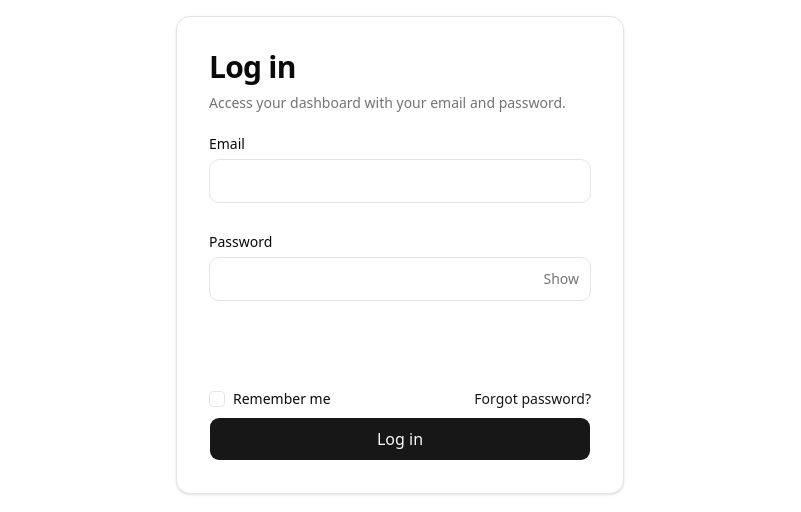
Scenario: routing and session flow › redirects to dashboard after successful login
In the field labelled "Email": (400, 181) [209, 159, 591, 203], type "success@example.com"
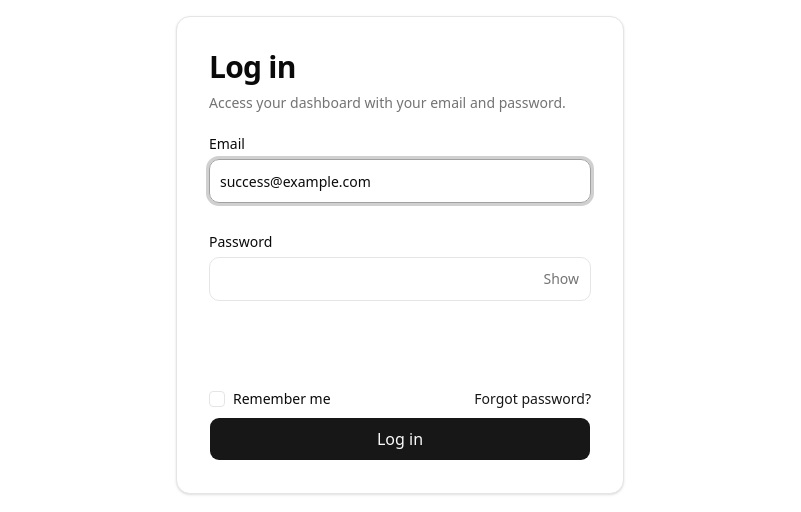
In the password field labelled "Password": (400, 279) [209, 257, 591, 301], type "password"
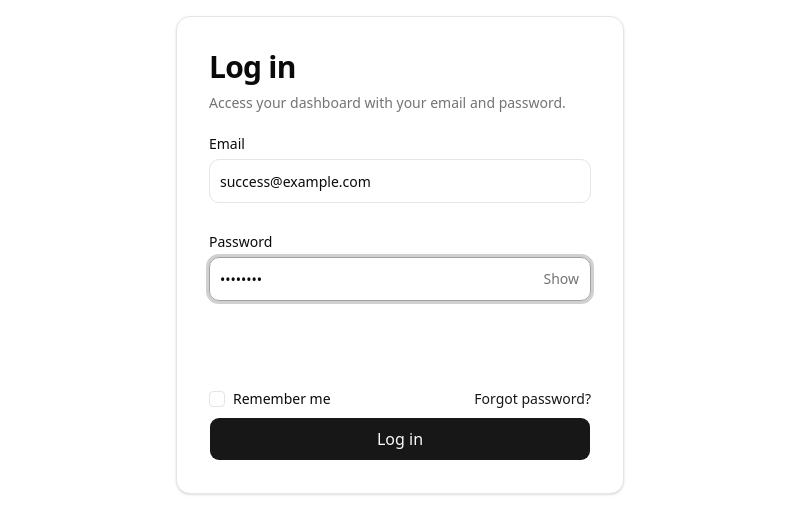
Click the button "Log in": (400, 439) [209, 417, 591, 461]
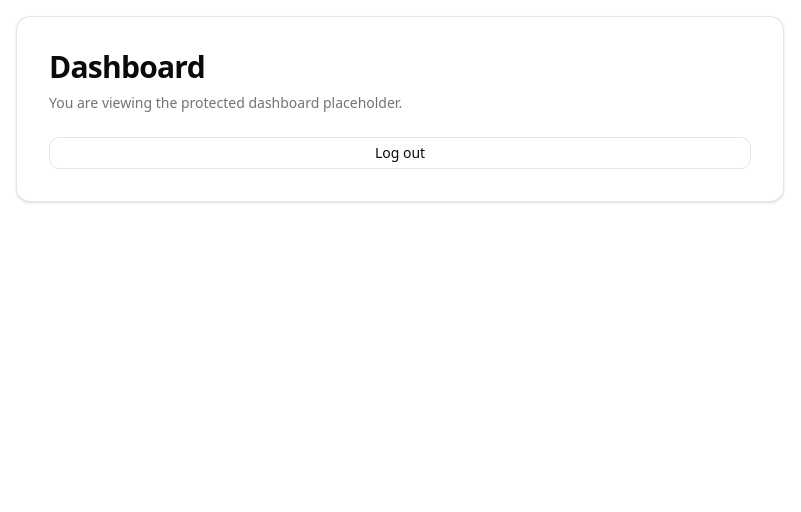
Now the heading "Dashboard" is shown, box [49, 46, 205, 87]
